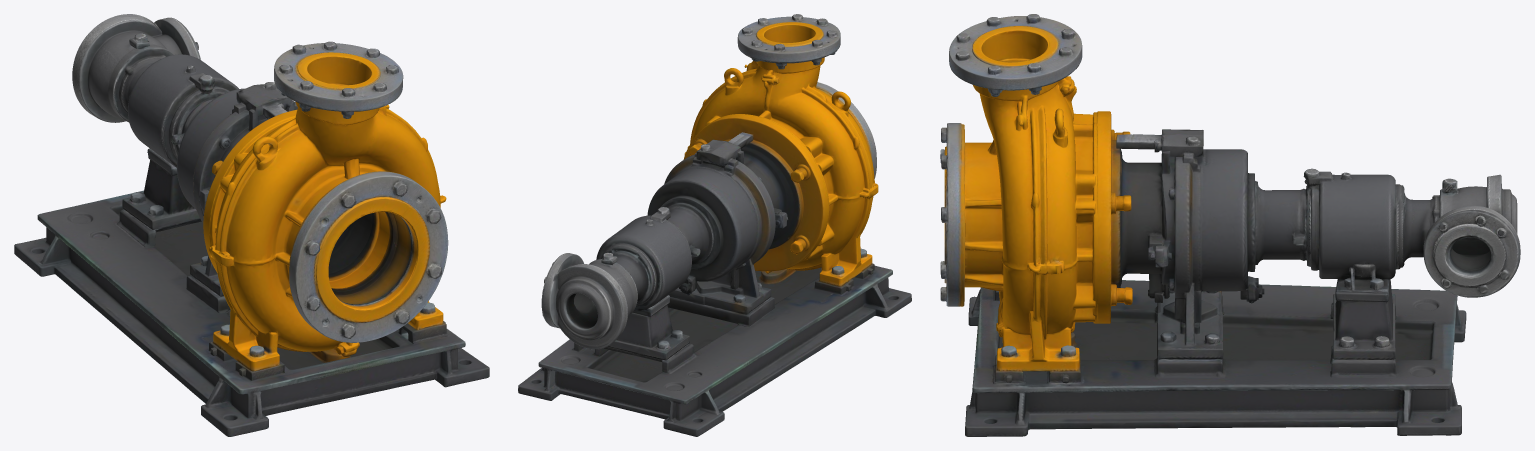
Rendered from slurry-pump.glb.
The picture shows the model from 3 angles, left to right: view 1: azimuth 30°, elevation 25°; view 2: azimuth 150°, elevation 25°; view 3: azimuth 270°, elevation 25°; orthographic projection. The views are drawn at different scales.
Parts seen in each view (by area): view 1: tripo_node_0da4f085-9d4c-4266-8584-054b60af01fc; view 2: tripo_node_0da4f085-9d4c-4266-8584-054b60af01fc; view 3: tripo_node_0da4f085-9d4c-4266-8584-054b60af01fc.
Boxes of the visible parts, x1,y1,x2,y2 form: tripo_node_0da4f085-9d4c-4266-8584-054b60af01fc: (14, 14, 489, 436); tripo_node_0da4f085-9d4c-4266-8584-054b60af01fc: (518, 14, 911, 436); tripo_node_0da4f085-9d4c-4266-8584-054b60af01fc: (940, 14, 1520, 436).
Size of the model in its own units: 0.5197 by 0.6274 by 0.9803.
1 material, 1 textured.
